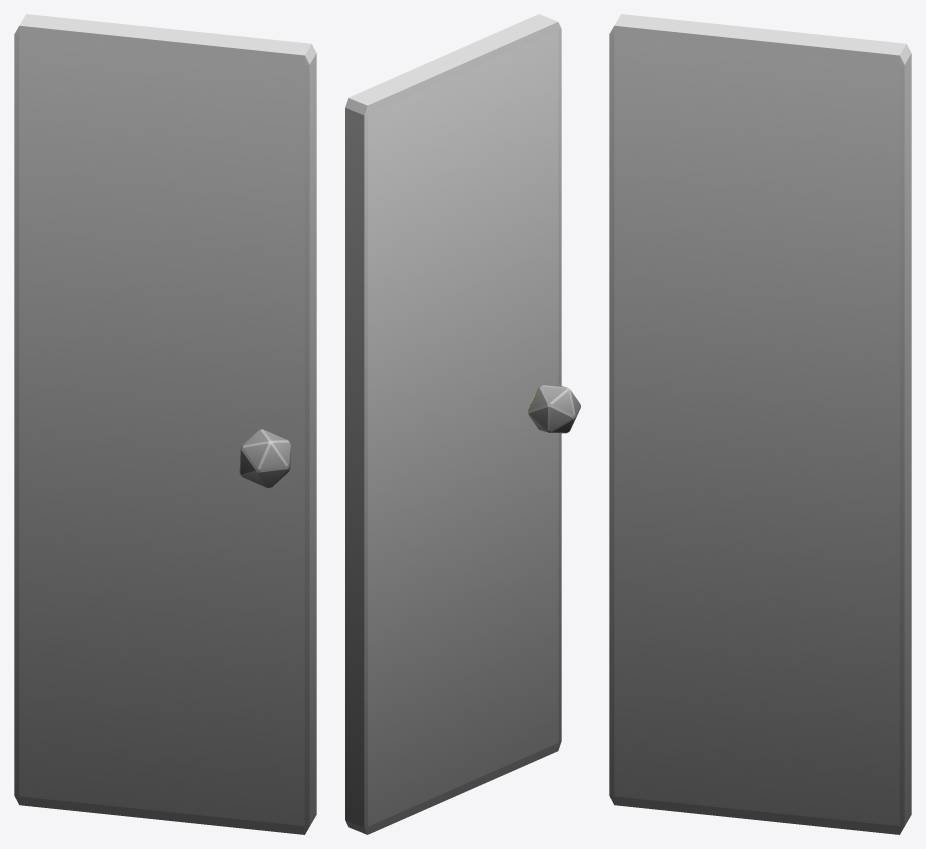
Rendered from DoorClose.fbx.
3 views of the same model, side by side, from view 1: azimuth 90°, elevation 25°; view 2: azimuth 150°, elevation 25°; view 3: azimuth 270°, elevation 25° (orthographic). The views are drawn at different scales.
Parts seen in each view (by area): view 1: Door, DoorHandle; view 2: Door, DoorHandle; view 3: Door.
Part boxes in pixels (box(x1,y1,x2,y2)): Door: box(14, 14, 316, 834); DoorHandle: box(239, 429, 290, 488); Door: box(345, 14, 561, 834); DoorHandle: box(528, 385, 580, 433); Door: box(609, 14, 911, 834).
Bounding box in the file's own units: 79.81 × 469 × 165.
1 material, 1 textured.
